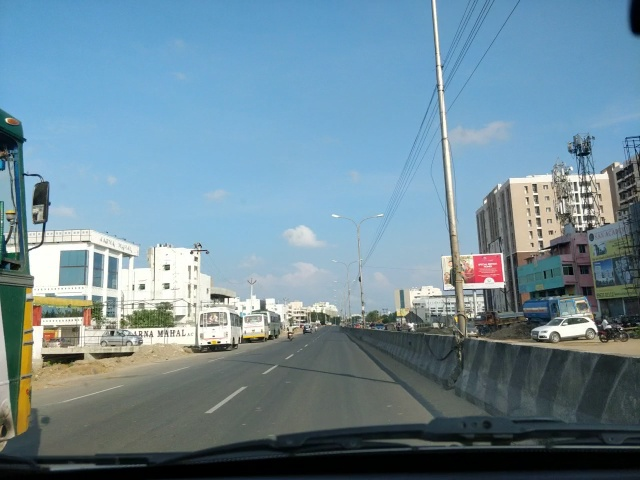bus: (196, 309, 244, 349), (245, 313, 284, 341)
car: (534, 311, 599, 341), (101, 327, 142, 347), (302, 322, 314, 334)
motorbike: (596, 316, 631, 341), (284, 321, 296, 341)
truck: (3, 105, 52, 453), (521, 300, 595, 330)
